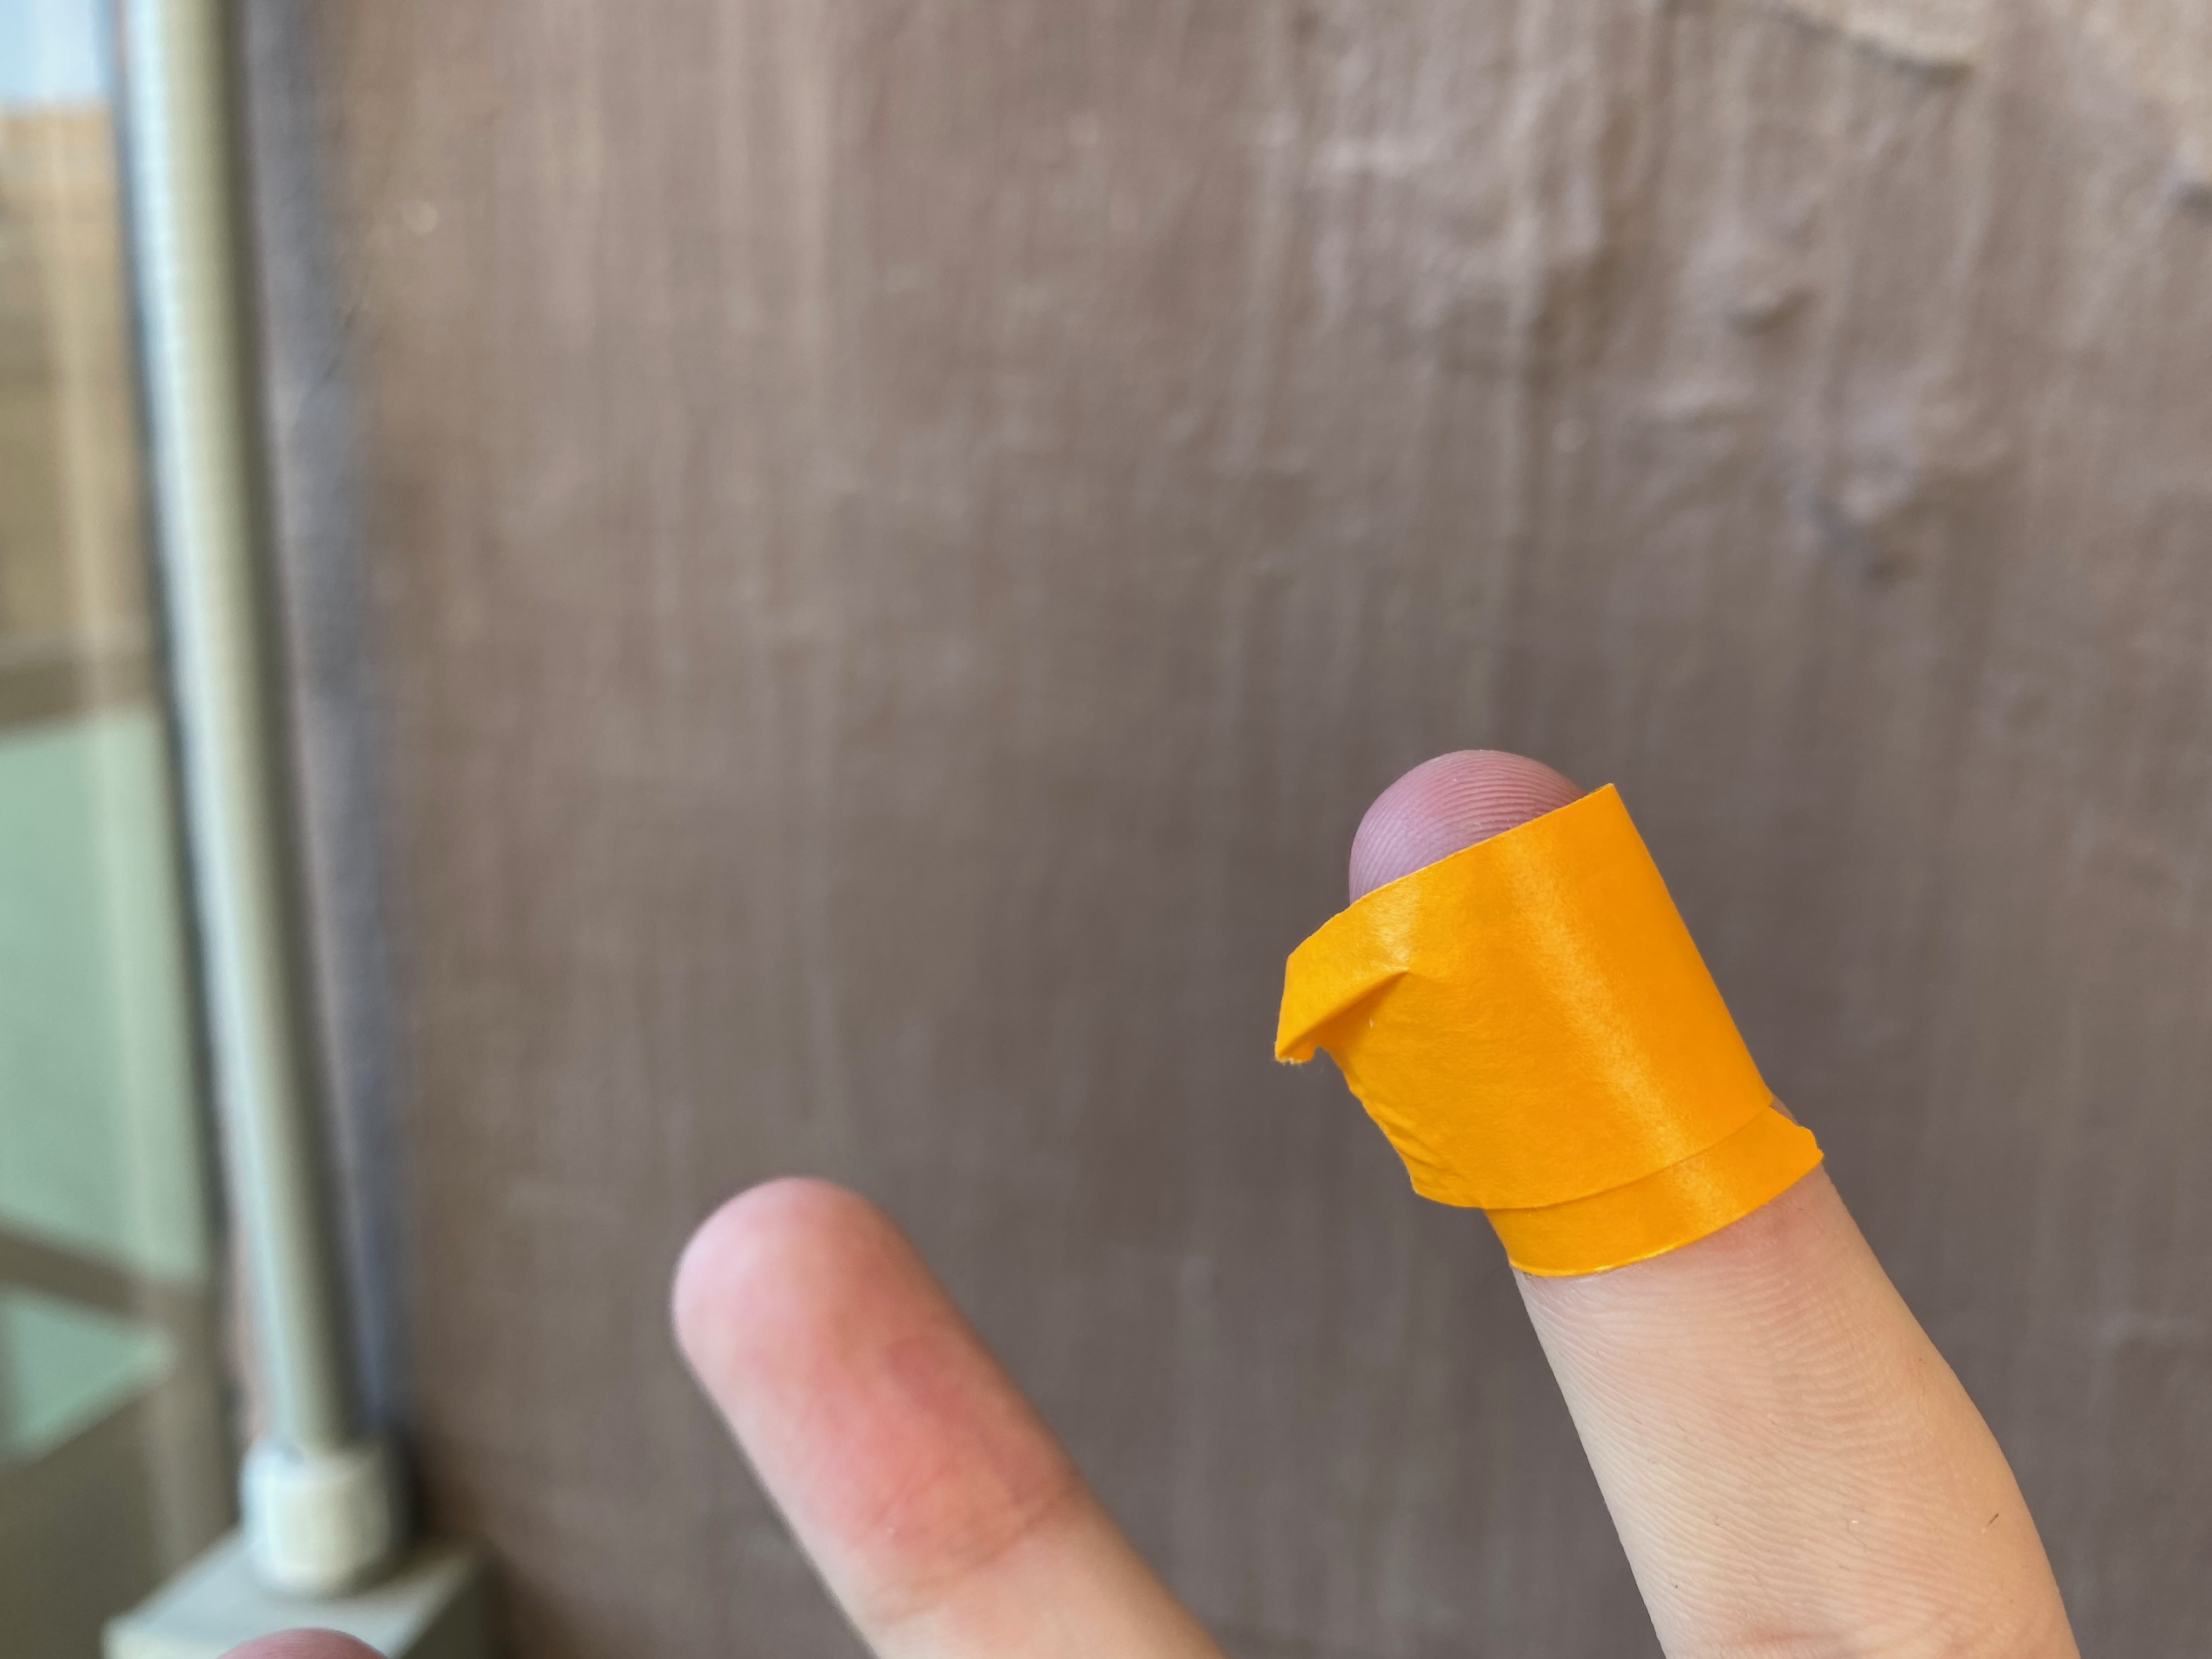fingertip: (1249, 739, 1860, 1319)
